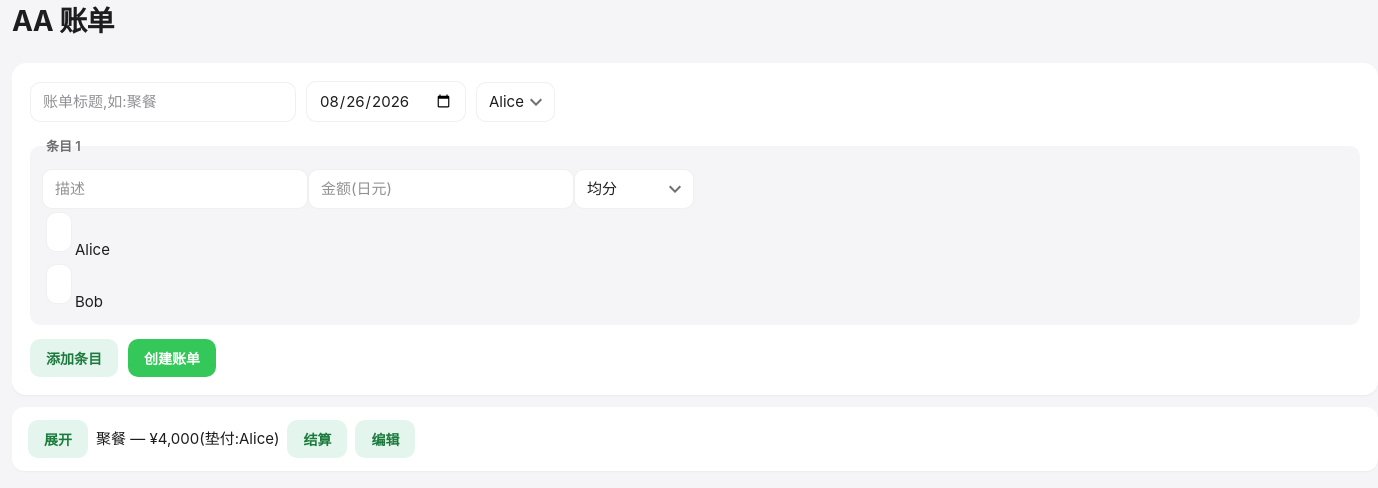
Test case: AA 账单组件 › 结算账单后显示已结算状态,可反结算
This screenshot has width=1378, height=488.
Check: the list item "展开 聚餐 — ¥4,000(垫付:Alice) 结算 编辑" is shown, box x1=12 y1=407 x2=1377 y2=471
Click the button "结算" at (317, 439), box x1=287 y1=420 x2=347 y2=458
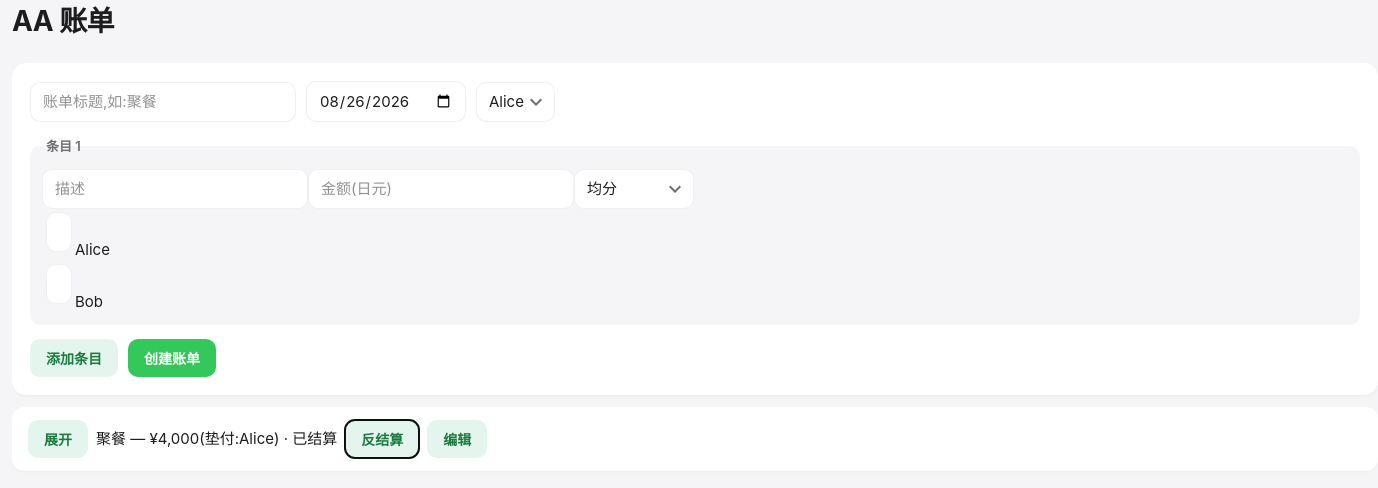
Check: the list item "展开 聚餐 — ¥4,000(垫付:Alice) · 已结算 反结算 编辑" is shown, box x1=12 y1=407 x2=1377 y2=471
Check: the button "反结算" is shown
Click the button "反结算" at (382, 439), box x1=345 y1=420 x2=419 y2=458
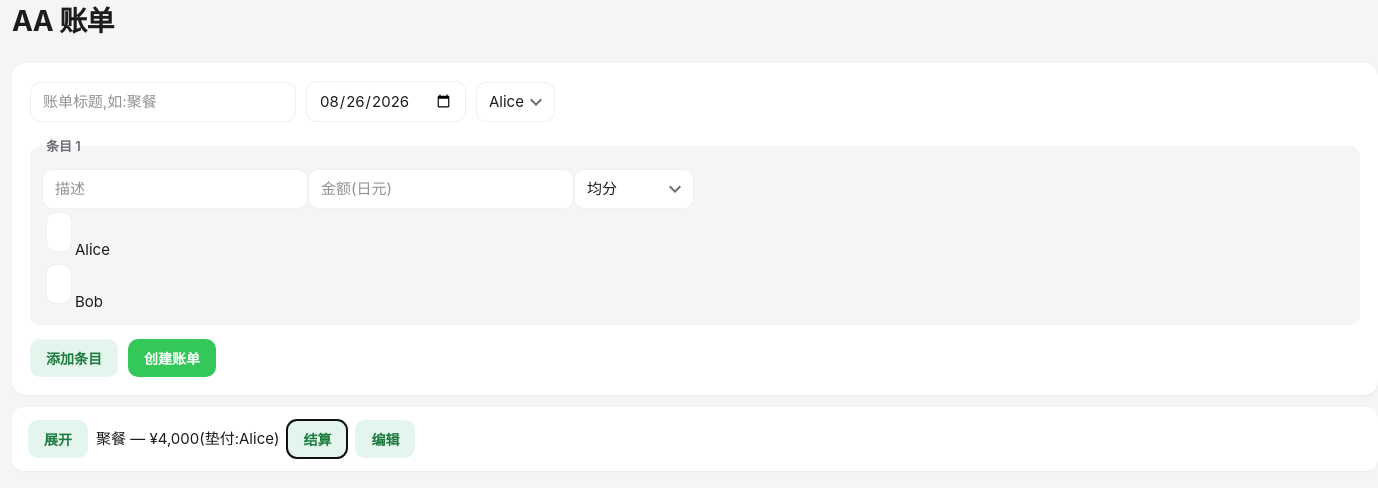
Check: the button "反结算" is gone
